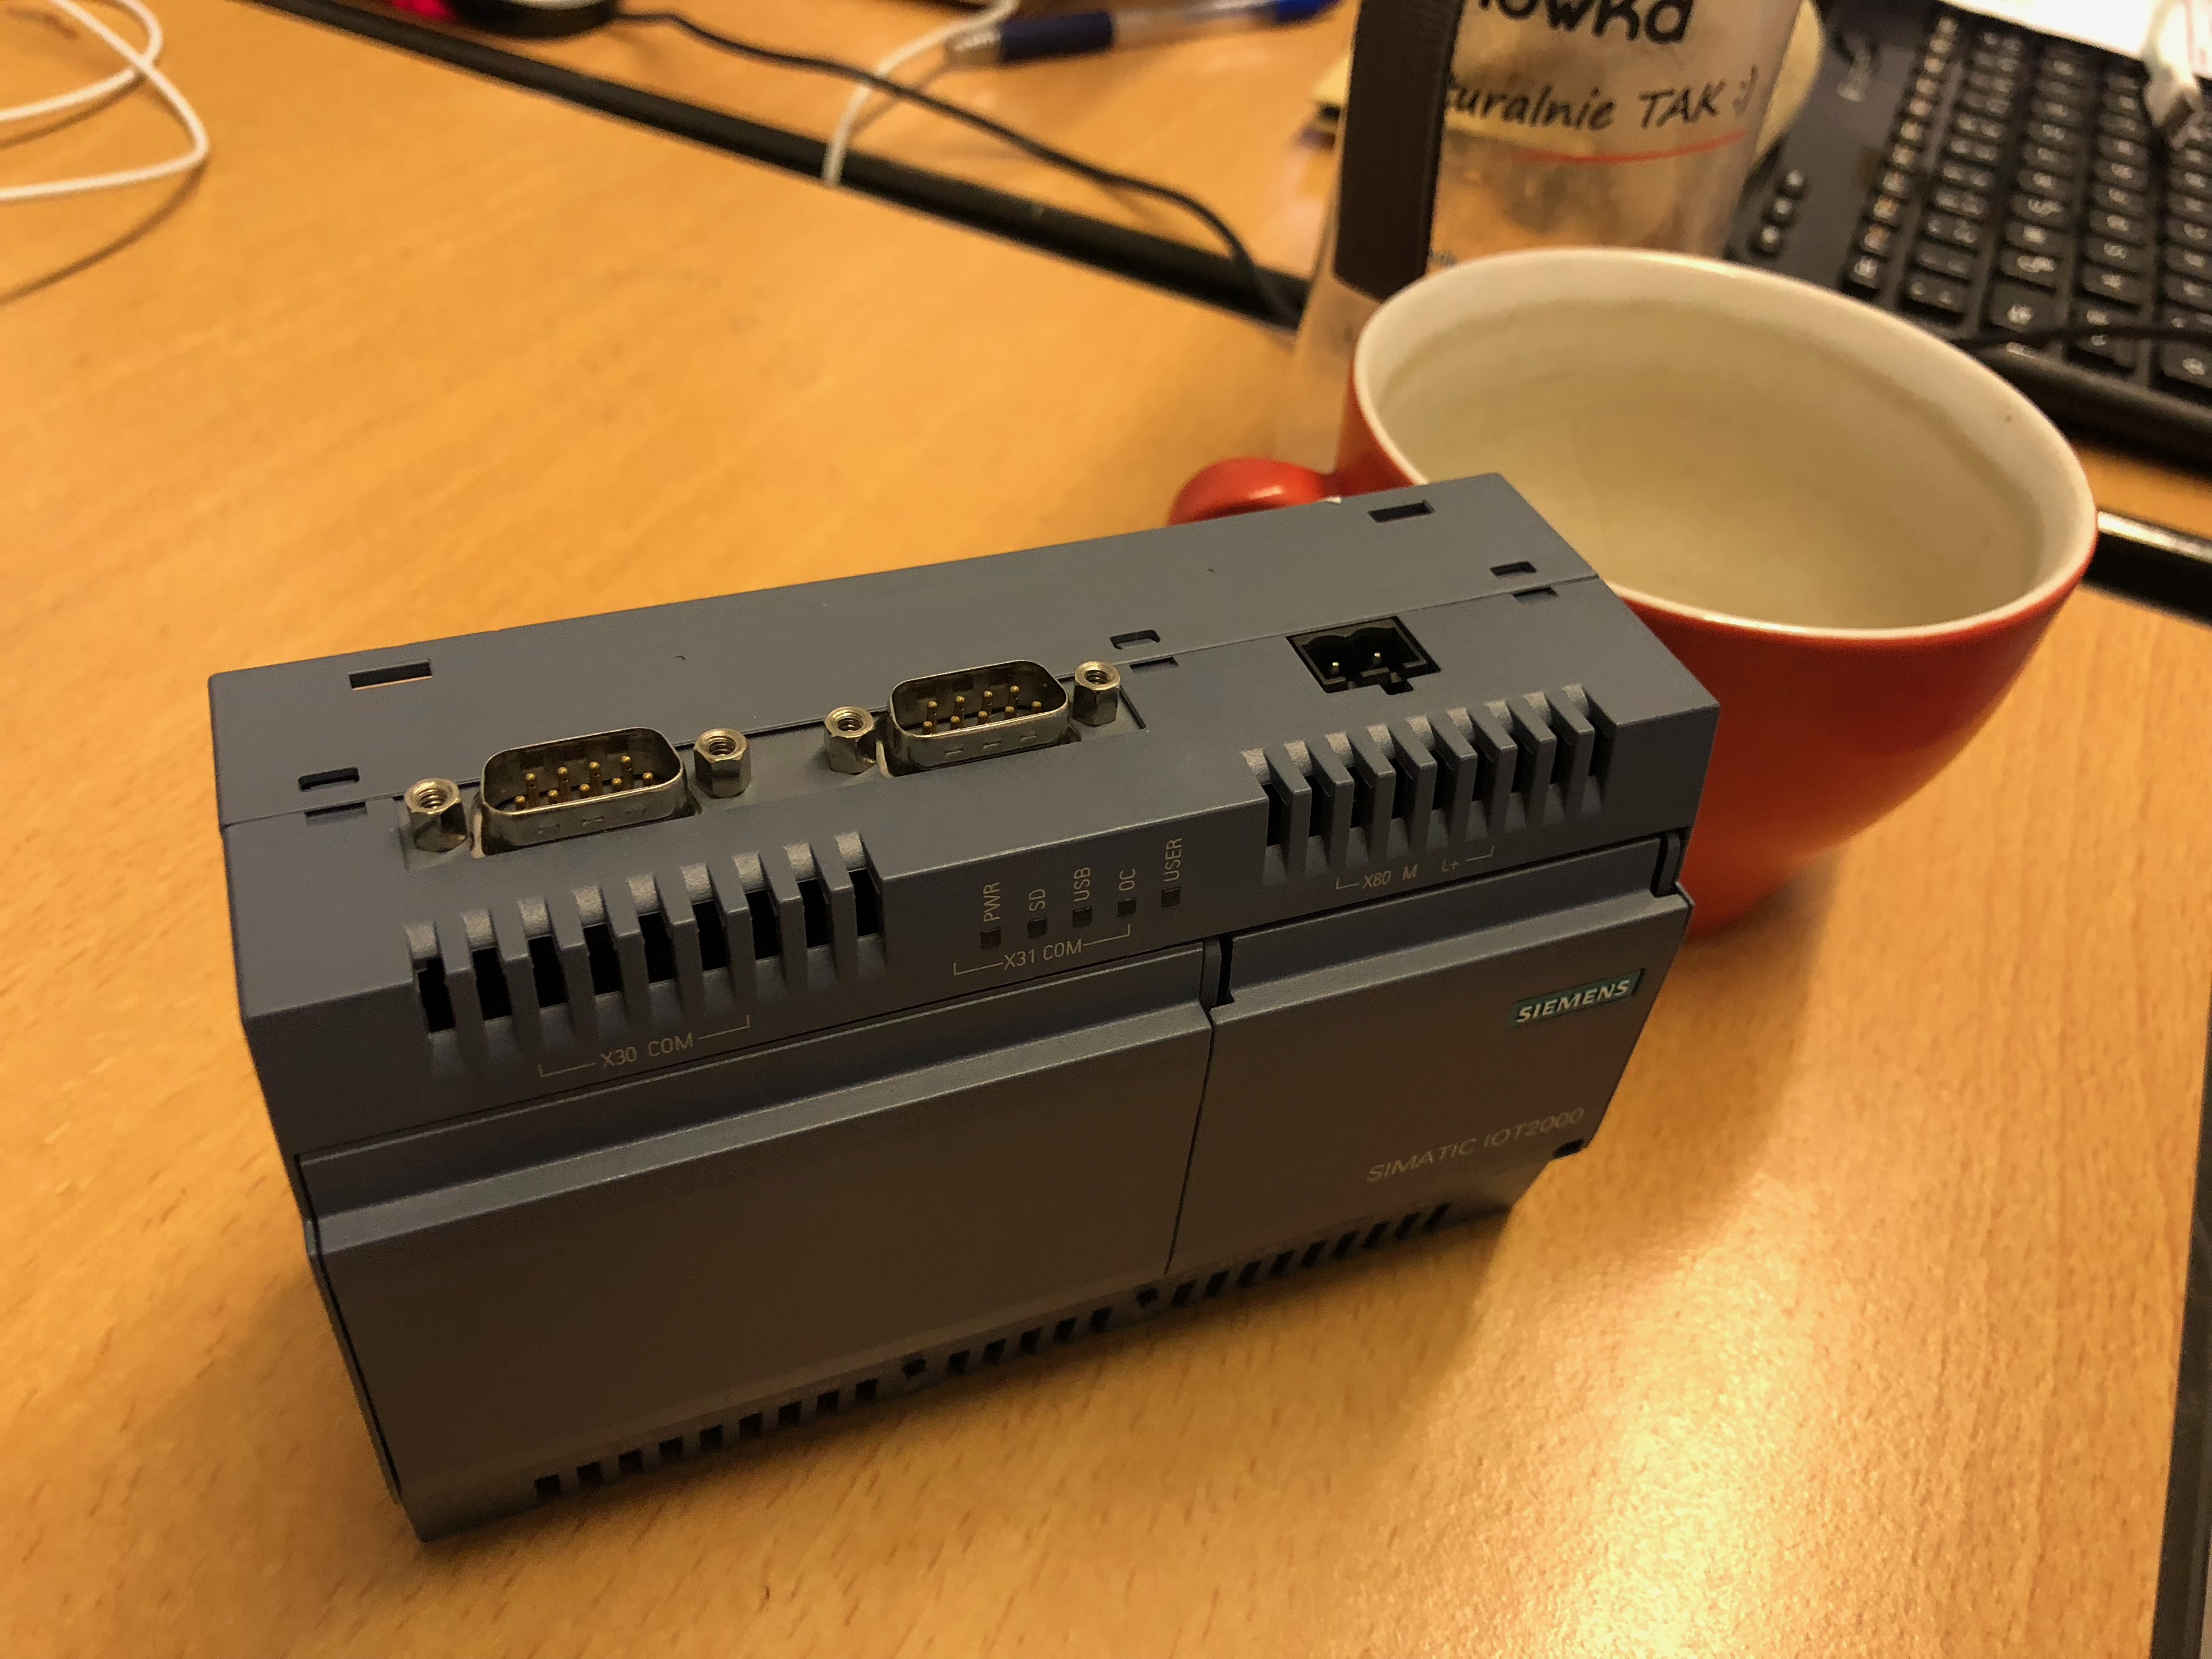device: (206, 469, 1723, 1547)
